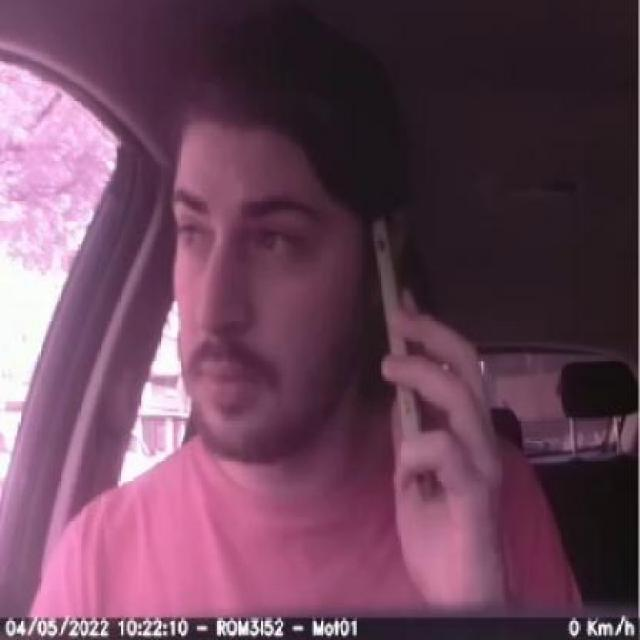using_phone: (198, 156, 526, 553)
